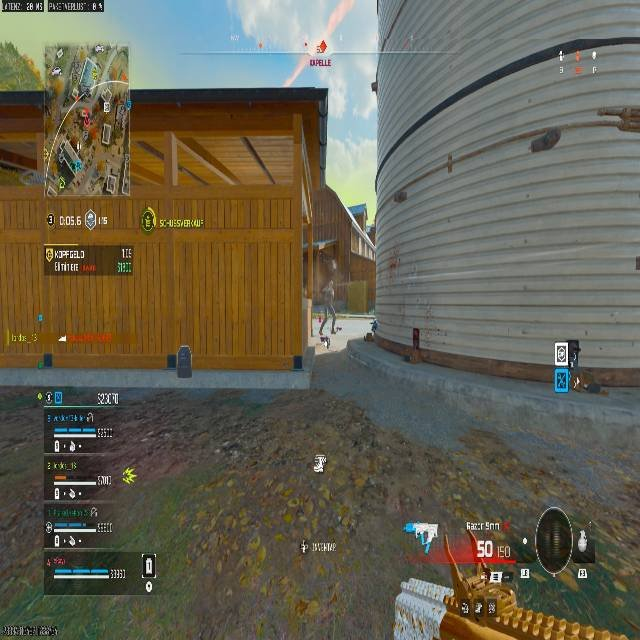player: (310, 0, 381, 127), (312, 291, 344, 345), (363, 317, 379, 342)
